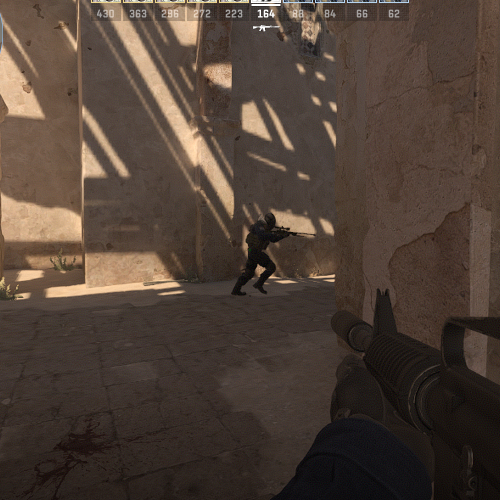ct_body: (231, 210, 282, 297)
ct_head: (264, 211, 276, 231)
